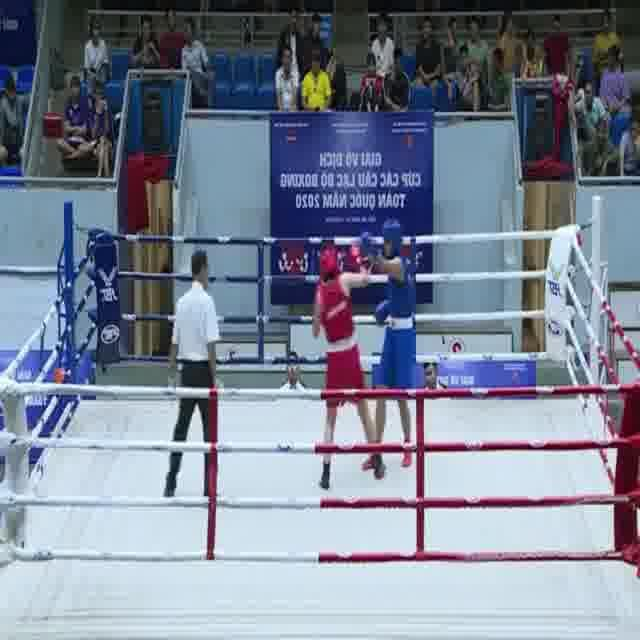blue-player: (359, 216, 419, 475)
red-player: (310, 241, 386, 491)
referee: (160, 244, 222, 502)
